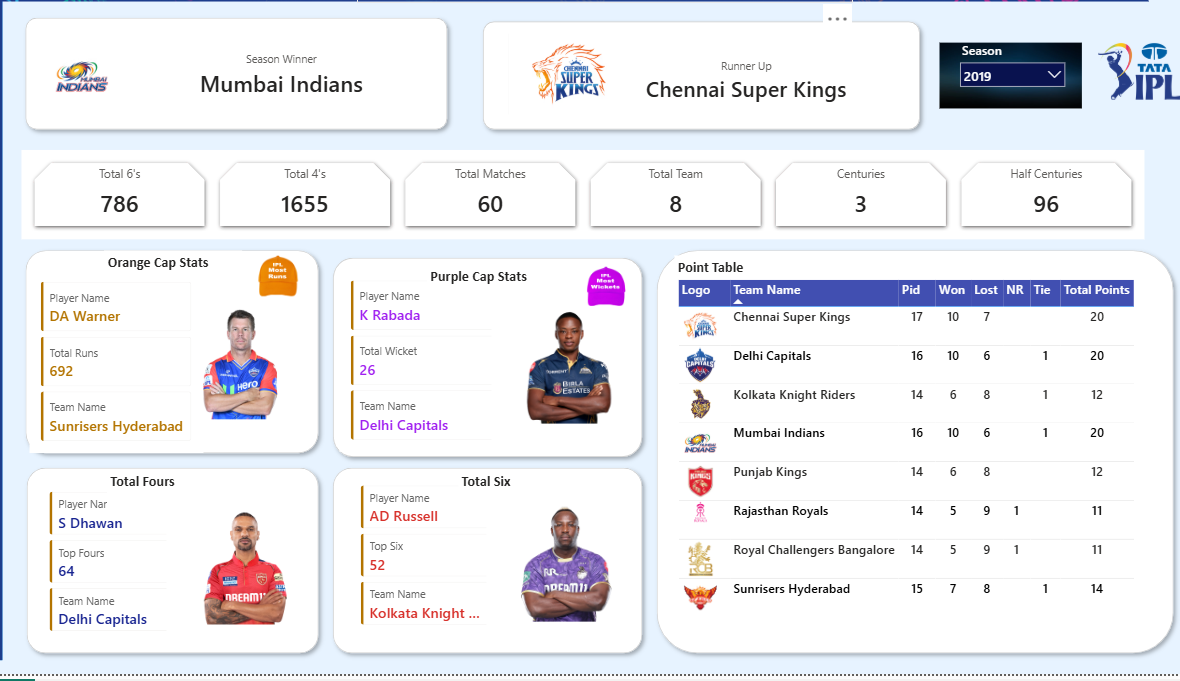

This screenshot's page, from the dashboard's own definition file:
{"tool":"powerbi","page":{"name":"Page 1","canvas":[2000,1100],"ordinal":0},"visuals":[{"type":"shape","box":[0,15,240.2,1065],"z":0},{"type":"image","box":[221.4,15,1730,82],"z":1000},{"type":"image","box":[1640.3,114,213,183.1],"z":2000},{"type":"shape","box":[1206.9,455.8,794,624],"z":3000},{"type":"shape","box":[723,780.9,483.9,298.9],"z":4000},{"type":"shape","box":[265.3,780.9,457.7,298.9],"z":5000},{"type":"shape","box":[263.4,108.4,652,188.7],"z":6000},{"type":"cardVisual","fields":{"Data":["ipl_matches_data.Season Winner"]},"box":[411,143.9,491.3,119.6],"z":7000},{"type":"shape","box":[263.4,455.8,459.6,325.1],"z":8000},{"type":"cardVisual","fields":{"Data":["ipl_matches_data.Orange Cap Image"]},"box":[480.1,513.8,218.6,242.9],"z":9000},{"type":"cardVisual","fields":{"Data":["ipl_matches_data.Orange Cap Holder","ipl_matches_data.Orange Cap Runs","ipl_matches_data.Orange Cap Holder Team Name"]},"box":[280.2,496.9,259.7,272.8],"z":10000},{"type":"cardVisual","fields":{"Data":["ipl_matches_data.Total 6's","ipl_matches_data.Total 4's","ipl_matches_data.Total Matches","ipl_matches_data.Total Team","ipl_matches_data.Centuries","ipl_matches_data.Half Centuries"]},"box":[263.4,312,1688.9,143.9],"z":11000},{"type":"shape","box":[947.2,114,674.4,183.1],"z":12000},{"type":"cardVisual","fields":{"Data":["ipl_matches_data.Season Winner logo"]},"box":[293.3,155.1,132.6,99],"z":13000},{"type":"textbox","box":[769.2,15,743,82.6],"z":14000},{"type":"slicer","fields":{"Values":["ipl_matches_data.season"]},"box":[1660.8,149.5,177.5,110.2],"z":15000},{"type":"cardVisual","fields":{"Data":["ipl_matches_data.Runner Up"]},"box":[1141.5,162.5,420.3,100.9],"z":16000},{"type":"cardVisual","fields":{"Data":["ipl_matches_data.Runner Up logo"]},"box":[990.2,136.4,192.4,134.5],"z":17000},{"type":"textbox","box":[392.3,467.1,205.5,43],"z":18000},{"type":"image","box":[605.3,472.7,93.4,65.4],"z":19000},{"type":"shape","box":[723,467.1,483.9,319.5],"z":20000},{"type":"cardVisual","fields":{"Data":["ipl_matches_data.PurpleCapHolder","ipl_matches_data.PurpleCapWicketCount","ipl_matches_data.PurpleCapWicketTeam"]},"box":[743.6,495.1,259.7,272.8],"z":21000},{"type":"cardVisual","fields":{"Data":["ipl_matches_data.PurpleCapHolderImage"]},"box":[965.9,513.8,227.9,246.6],"z":22000},{"type":"textbox","box":[874.3,487.6,186.8,44.8],"z":23000},{"type":"image","box":[1094.8,489.5,95.3,63.5],"z":24000},{"type":"cardVisual","fields":{"Data":["ipl_matches_data.Top Four Player Name","ipl_matches_data.Top Fours Count","ipl_matches_data.Top Four Player Team Name"]},"box":[293.3,810.8,231.7,242.9],"z":25000},{"type":"textbox","box":[396.1,794,168.1,59.8],"z":26000},{"type":"cardVisual","fields":{"Data":["ipl_matches_data.Top Four Player Image"]},"box":[480.1,816.4,229.8,239.1],"z":27000},{"type":"cardVisual","fields":{"Data":["ipl_matches_data.Top Six Player Name","ipl_matches_data.Top Six Count","ipl_matches_data.Top Six Player Team Name"]},"box":[758.5,801.5,231.7,242.9],"z":28000},{"type":"cardVisual","fields":{"Data":["ipl_matches_data.Top Four Player Image"]},"box":[958.4,808.9,229.8,246.6],"z":29000},{"type":"textbox","box":[921,794,127,46.7],"z":30000},{"type":"tableEx","fields":{"Values":["teams_data.image_url","teams_data.team_name","ipl_matches_data.Matches Played","ipl_matches_data.Matches Won","ipl_matches_data.Matches Lost","ipl_matches_data.No Result Matches","ipl_matches_data.Tie Played","ipl_matches_data.Total Points"]},"box":[1244.2,506.3,708.1,538],"z":31000},{"type":"textbox","box":[1244.2,474.5,186.8,35.5],"z":32000},{"type":"image","box":[0,97.1,222.3,156.9],"z":33000},{"type":"cardVisual","fields":{"Data":["ipl_matches_data.IPL Season"]},"box":[0,297,224.2,158.8],"z":34000},{"type":"actionButton","box":[84.1,539.9,140.1,39.2],"z":35000},{"type":"image","box":[26.2,539.9,57.9,39.2],"z":36000},{"type":"actionButton","box":[84.1,618.4,140.1,39.2],"z":37000},{"type":"actionButton","box":[84.1,698.7,140.1,39.2],"z":38000},{"type":"image","box":[11.2,596,72.9,80.3],"z":39000},{"type":"image","box":[11.2,676.3,67.3,80.3],"z":40000},{"type":"image","box":[11.2,780.9,67.3,80.3],"z":41000},{"type":"actionButton","box":[84.1,795.9,140.1,54.2],"z":42000},{"type":"image","box":[11.2,881.8,67.3,80.3],"z":43000},{"type":"image","box":[11.2,975.2,67.3,80.3],"z":44000},{"type":"actionButton","box":[84.1,902.3,140.1,54.2],"z":45000},{"type":"actionButton","box":[84.1,990.2,140.1,54.2],"z":46000},{"type":"image","box":[1877.6,100.9,123.3,196.2],"z":47000}]}

Visuals, with their boxes on the page's 2000x1100 design canvas (x1, y1, x2, y2). These are canvas units, not pixel positions in the 1180x681 screenshot, which may show the page scaled, cropped or inside an application window:
shape: bbox=[0, 15, 240, 1080]
image: bbox=[221, 15, 1951, 97]
image: bbox=[1640, 114, 1853, 297]
shape: bbox=[1207, 456, 2001, 1080]
shape: bbox=[723, 781, 1207, 1080]
shape: bbox=[265, 781, 723, 1080]
shape: bbox=[263, 108, 915, 297]
cardVisual - ipl_matches_data.Season Winner: bbox=[411, 144, 902, 264]
shape: bbox=[263, 456, 723, 781]
cardVisual - ipl_matches_data.Orange Cap Image: bbox=[480, 514, 699, 757]
cardVisual - ipl_matches_data.Orange Cap Holder x ipl_matches_data.Orange Cap Runs: bbox=[280, 497, 540, 770]
cardVisual - ipl_matches_data.Total 6's x ipl_matches_data.Total 4's: bbox=[263, 312, 1952, 456]
shape: bbox=[947, 114, 1622, 297]
cardVisual - ipl_matches_data.Season Winner logo: bbox=[293, 155, 426, 254]
textbox: bbox=[769, 15, 1512, 98]
slicer - ipl_matches_data.season: bbox=[1661, 150, 1838, 260]
cardVisual - ipl_matches_data.Runner Up: bbox=[1142, 162, 1562, 263]
cardVisual - ipl_matches_data.Runner Up logo: bbox=[990, 136, 1183, 271]
textbox: bbox=[392, 467, 598, 510]
image: bbox=[605, 473, 699, 538]
shape: bbox=[723, 467, 1207, 787]
cardVisual - ipl_matches_data.PurpleCapHolder x ipl_matches_data.PurpleCapWicketCount: bbox=[744, 495, 1003, 768]
cardVisual - ipl_matches_data.PurpleCapHolderImage: bbox=[966, 514, 1194, 760]
textbox: bbox=[874, 488, 1061, 532]
image: bbox=[1095, 490, 1190, 553]
cardVisual - ipl_matches_data.Top Four Player Name x ipl_matches_data.Top Fours Count: bbox=[293, 811, 525, 1054]
textbox: bbox=[396, 794, 564, 854]
cardVisual - ipl_matches_data.Top Four Player Image: bbox=[480, 816, 710, 1056]
cardVisual - ipl_matches_data.Top Six Player Name x ipl_matches_data.Top Six Count: bbox=[758, 802, 990, 1044]
cardVisual - ipl_matches_data.Top Four Player Image: bbox=[958, 809, 1188, 1056]
textbox: bbox=[921, 794, 1048, 841]
tableEx - teams_data.image_url x teams_data.team_name: bbox=[1244, 506, 1952, 1044]
textbox: bbox=[1244, 474, 1431, 510]
image: bbox=[0, 97, 222, 254]
cardVisual - ipl_matches_data.IPL Season: bbox=[0, 297, 224, 456]
actionButton: bbox=[84, 540, 224, 579]
image: bbox=[26, 540, 84, 579]
actionButton: bbox=[84, 618, 224, 658]
actionButton: bbox=[84, 699, 224, 738]
image: bbox=[11, 596, 84, 676]
image: bbox=[11, 676, 78, 757]
image: bbox=[11, 781, 78, 861]
actionButton: bbox=[84, 796, 224, 850]
image: bbox=[11, 882, 78, 962]
image: bbox=[11, 975, 78, 1056]
actionButton: bbox=[84, 902, 224, 956]
actionButton: bbox=[84, 990, 224, 1044]
image: bbox=[1878, 101, 2001, 297]
